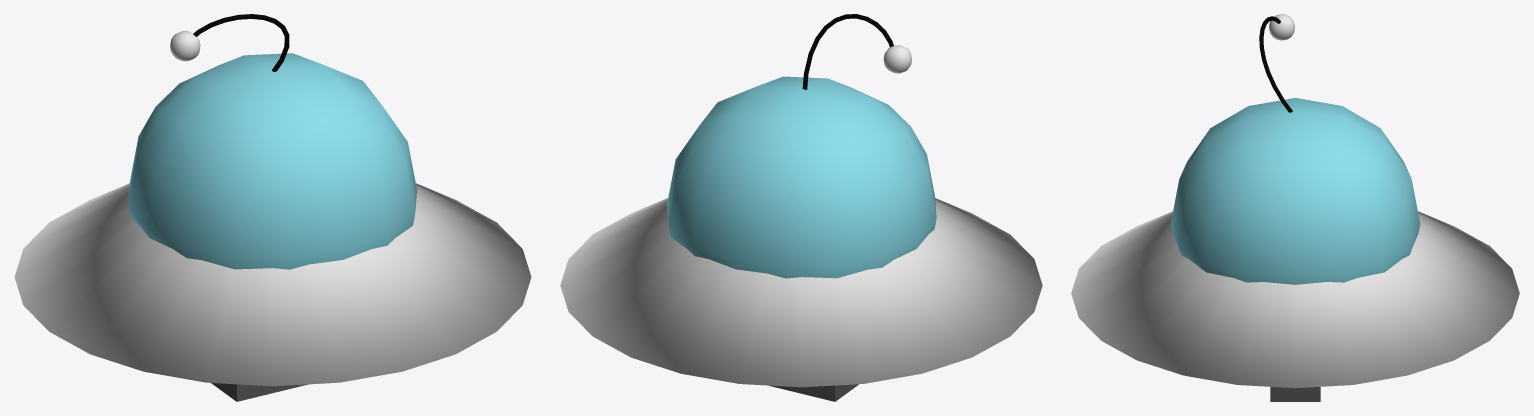
Rendered from AlienShip.fbx.
3 renders of one model, left to right at view 1: azimuth 30°, elevation 25°; view 2: azimuth 150°, elevation 25°; view 3: azimuth 270°, elevation 25°, orthographic. The views are drawn at different scales.
Parts seen in each view (by area): view 1: Cube.001; view 2: Cube.001; view 3: Cube.001.
Part boxes in pixels (box(x1,y1,x2,y2)): Cube.001: box(14, 14, 531, 401); Cube.001: box(560, 14, 1042, 401); Cube.001: box(1071, 14, 1519, 401).
Size of the model in its own units: 417 by 347 by 417.
